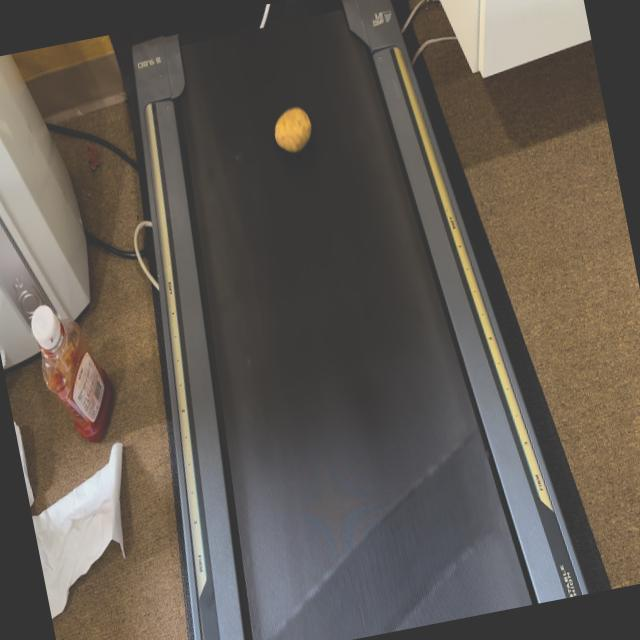Trash: (268, 94, 333, 158), (249, 0, 294, 35)
